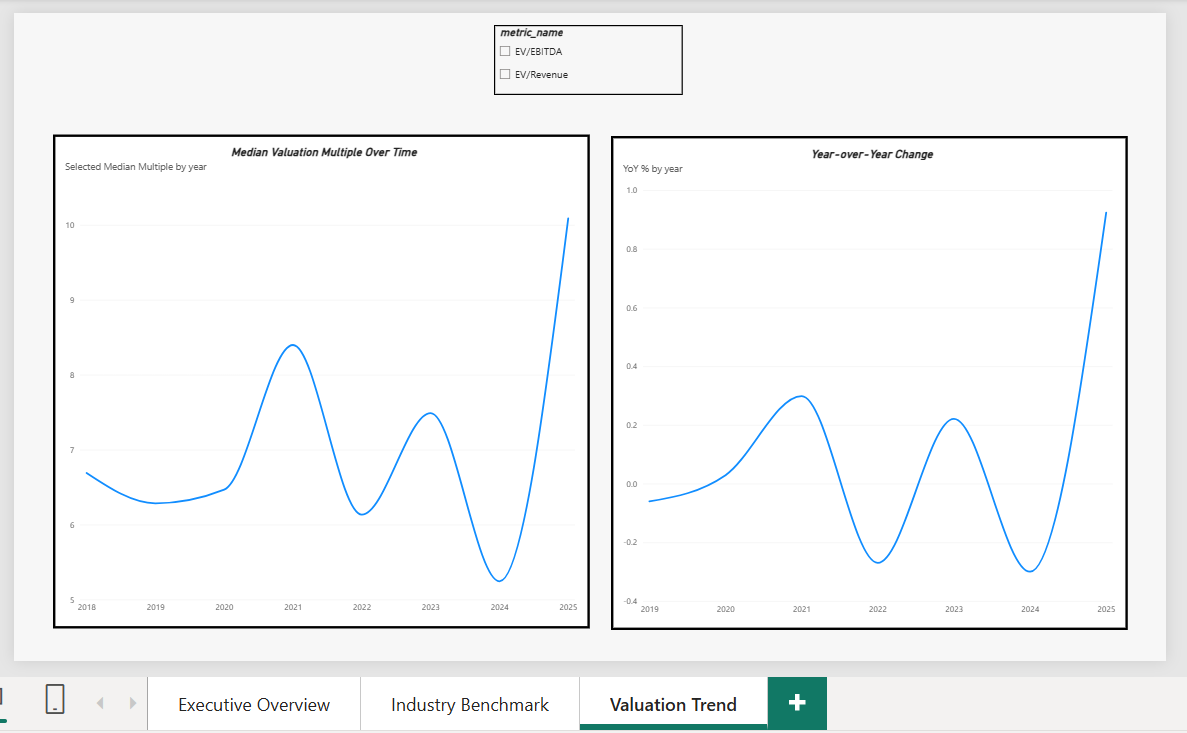

The dashboard page shown, as its layout file describes it:
{"tool":"powerbi","page":{"name":"Valuation Trend","canvas":[1920,1080],"ordinal":2},"visuals":[{"type":"slicer","fields":{"Values":["DimMetric.metric_name"]},"box":[799.3,19.1,314.9,116.9],"z":0},{"type":"lineChart","title":"Median Valuation Multiple Over Time","fields":{"Category":["DimYear.year"],"Y":["_Measures.Selected Median Multiple"]},"box":[64.4,202.8,894.7,823.1],"z":1},{"type":"lineChart","title":"Year-over-Year Change","fields":{"Category":["DimYear.year"],"Y":["_Measures.YoY %"]},"box":[994.9,205.2,861.3,823.1],"z":2}]}

Visuals, with their boxes on the page's 1920x1080 design canvas (x1, y1, x2, y2). These are canvas units, not pixel positions in the 1187x733 screenshot, which may show the page scaled, cropped or inside an application window:
slicer - DimMetric.metric_name: {"left": 799, "top": 19, "right": 1114, "bottom": 136}
"Median Valuation Multiple Over Time" lineChart: {"left": 64, "top": 203, "right": 959, "bottom": 1026}
"Year-over-Year Change" lineChart: {"left": 995, "top": 205, "right": 1856, "bottom": 1028}
